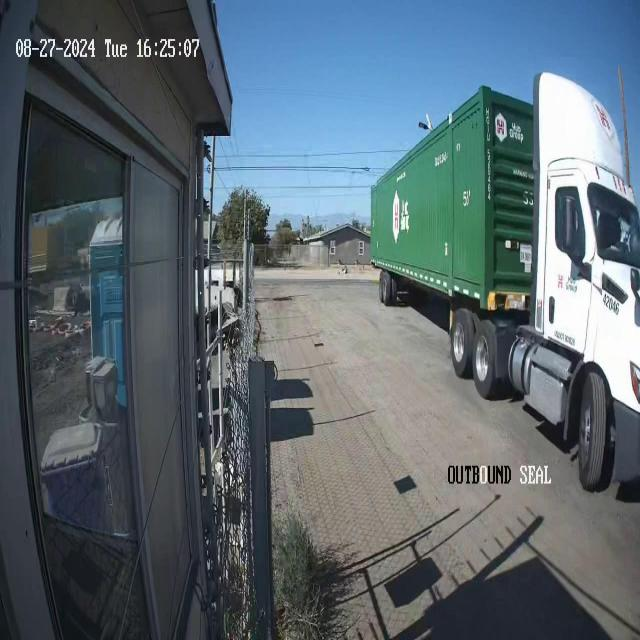TRUCK_IN: (369, 69, 639, 494)
